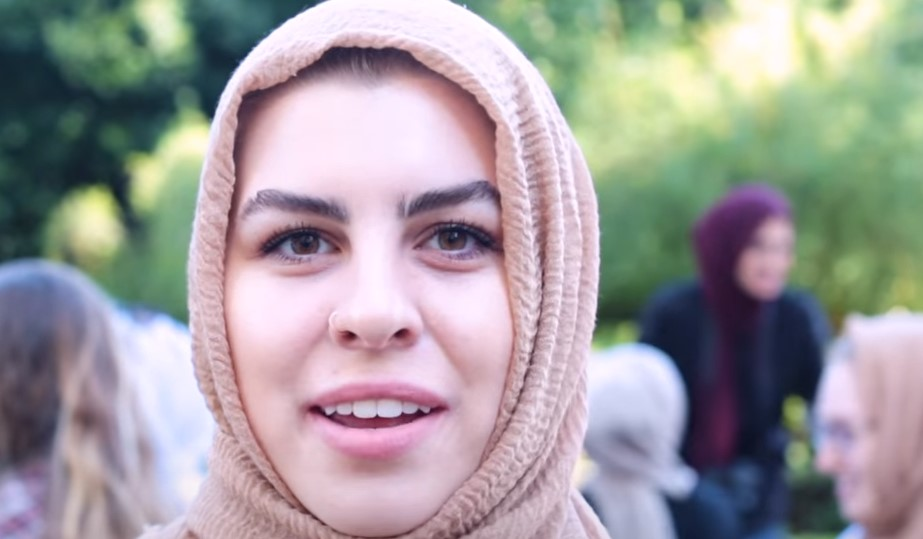face_no_mask: (211, 37, 560, 527)
